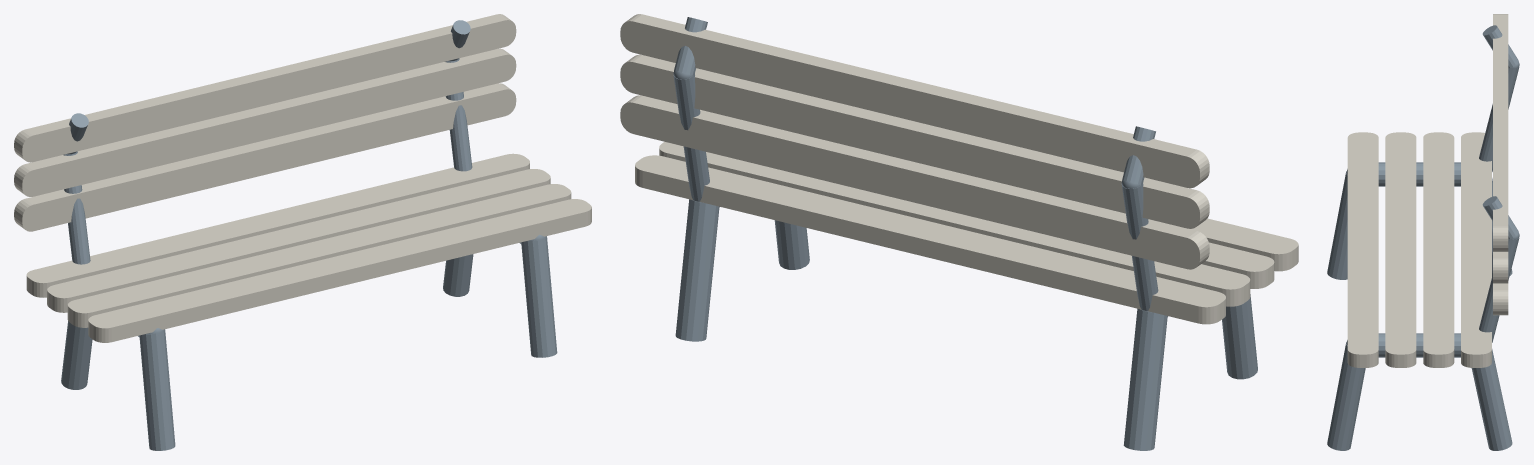
Rendered from curved_bench.glb.
3 renders of one model, left to right at view 1: azimuth 30°, elevation 25°; view 2: azimuth 150°, elevation 25°; view 3: azimuth 270°, elevation 25°, orthographic. The views are drawn at different scales.
Visible parts, largest first — view 1: decor_aaa493_matte, decor_455665_metal; view 2: decor_aaa493_matte, decor_455665_metal; view 3: decor_aaa493_matte, decor_455665_metal.
Part boxes in pixels (x1=…): decor_aaa493_matte: x1=14, y1=14, x2=591, y2=342; decor_455665_metal: x1=61, y1=20, x2=557, y2=450; decor_aaa493_matte: x1=620, y1=14, x2=1298, y2=324; decor_455665_metal: x1=673, y1=17, x2=1257, y2=450; decor_aaa493_matte: x1=1347, y1=14, x2=1508, y2=367; decor_455665_metal: x1=1327, y1=25, x2=1519, y2=450.
Size of the model in its own units: 1.95 by 1.02 by 0.7147.
